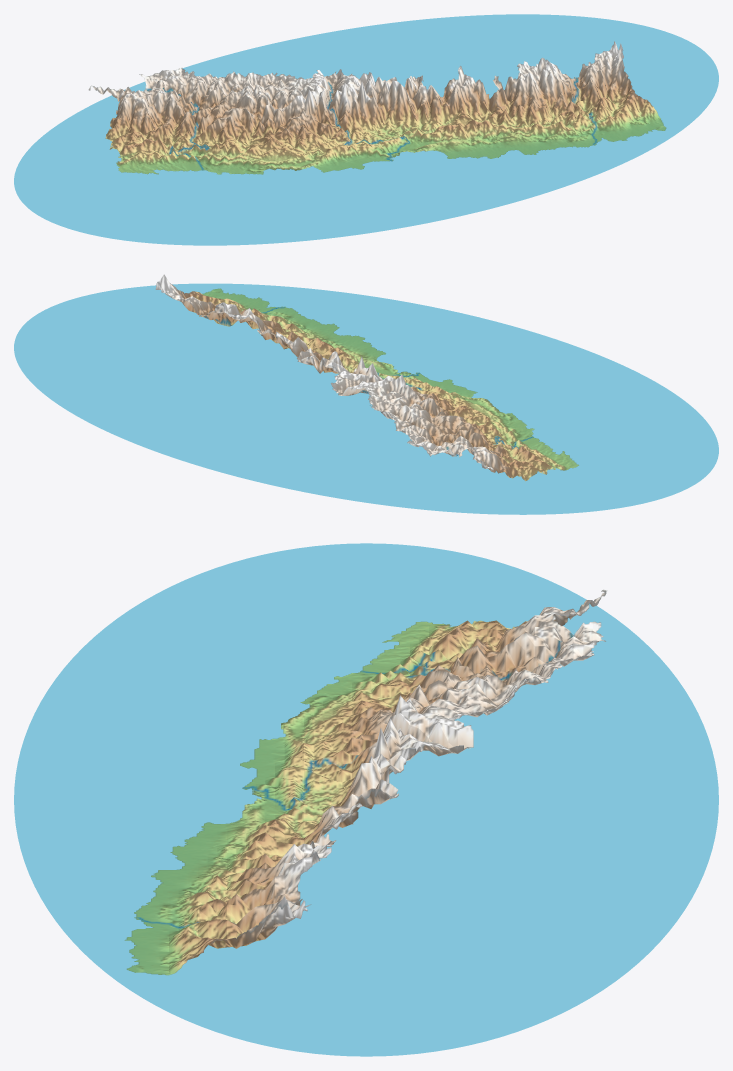
File: NPL-terrain.glb
The picture shows the model from 3 angles, top to bottom: view 1: azimuth 30°, elevation 25°; view 2: azimuth 150°, elevation 25°; view 3: azimuth 270°, elevation 25°; orthographic projection. The views are drawn at different scales.
Visible parts, largest first — view 1: Relevo com hidrografia; view 2: Relevo com hidrografia; view 3: Relevo com hidrografia.
Boxes of the visible parts, x1,y1,x2,y2 form: Relevo com hidrografia: [14, 14, 718, 245]; Relevo com hidrografia: [14, 274, 718, 514]; Relevo com hidrografia: [14, 543, 718, 1056].
Bounding box in the file's own units: 2.33 × 0.1675 × 1.35.
Materials: 2 (1 with a texture image).
